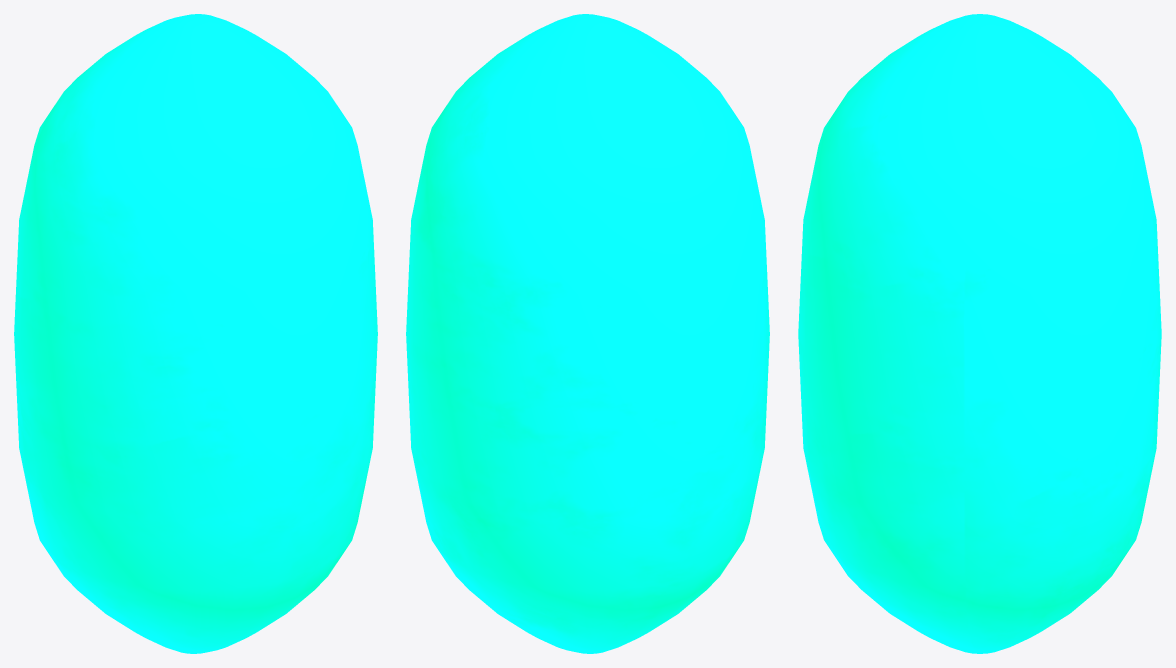
File: UFOLaserModel.fbx
3 renders of one model, left to right at view 1: azimuth 30°, elevation 25°; view 2: azimuth 150°, elevation 25°; view 3: azimuth 270°, elevation 25°, orthographic.
Visible parts, largest first — view 1: UFOLaser; view 2: UFOLaser; view 3: UFOLaser.
Part boxes in pixels (bbox=[...]): UFOLaser: bbox=[14, 14, 377, 653]; UFOLaser: bbox=[406, 14, 769, 653]; UFOLaser: bbox=[798, 14, 1161, 653].
Bounding box in the file's own units: 19.72 × 37.58 × 19.72.
